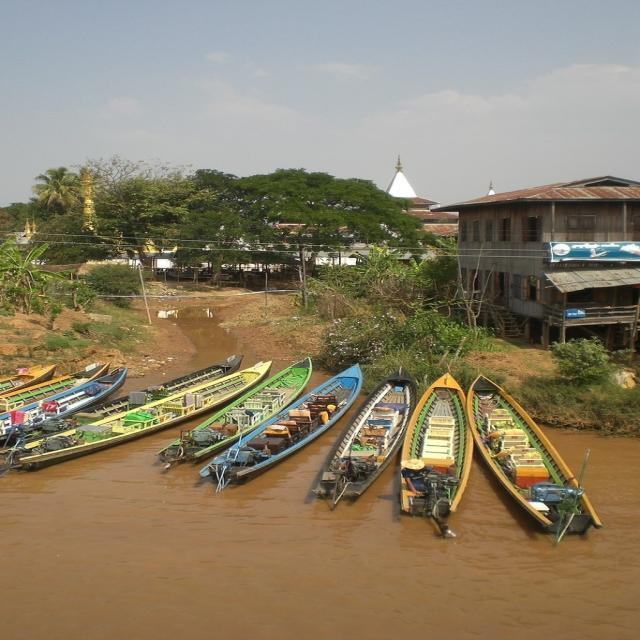boat: (470, 373, 614, 545), (209, 358, 376, 505), (306, 360, 414, 522), (396, 356, 468, 534)
